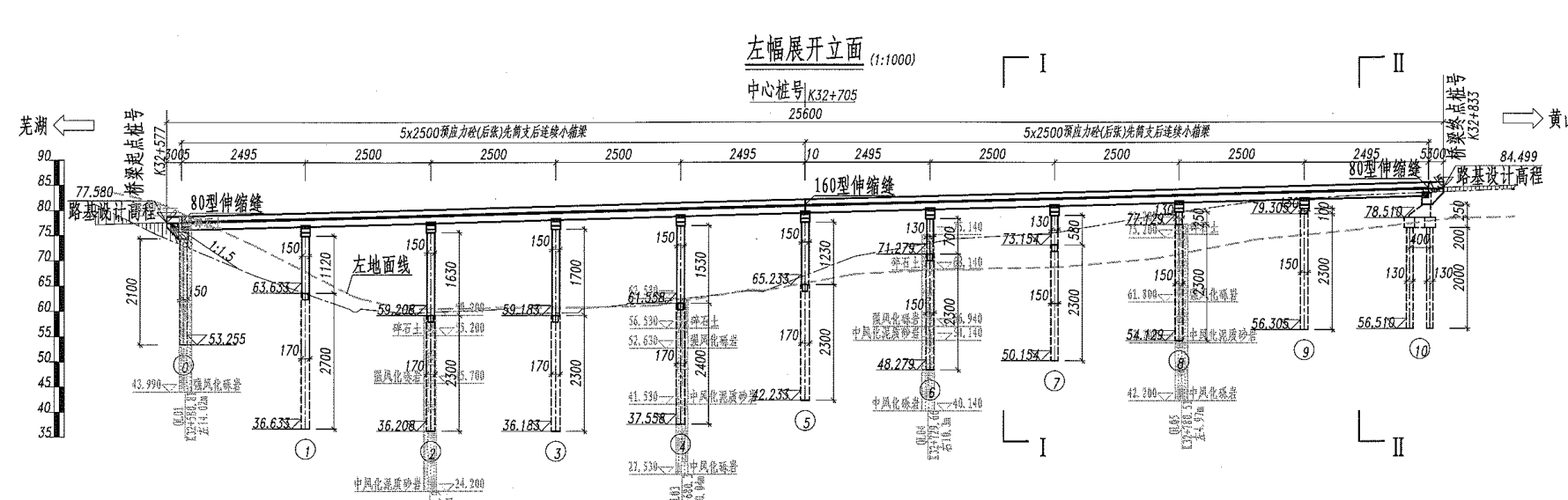A: (162, 101, 1461, 129)
B: (802, 111, 1429, 160), (176, 114, 809, 159)
C: (492, 215, 572, 465), (368, 217, 448, 464), (241, 221, 322, 463), (620, 209, 697, 456), (742, 205, 822, 435), (1350, 195, 1444, 364), (870, 203, 945, 402), (993, 199, 1069, 394), (1245, 192, 1320, 363), (1122, 195, 1193, 375)
